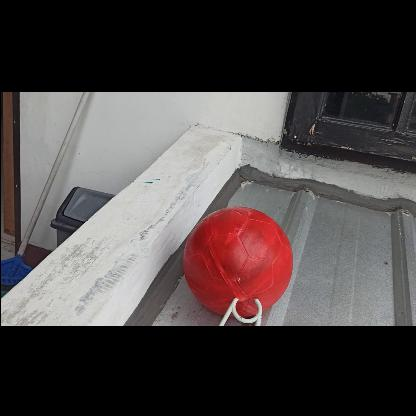red_ball: (183, 206, 292, 314)
